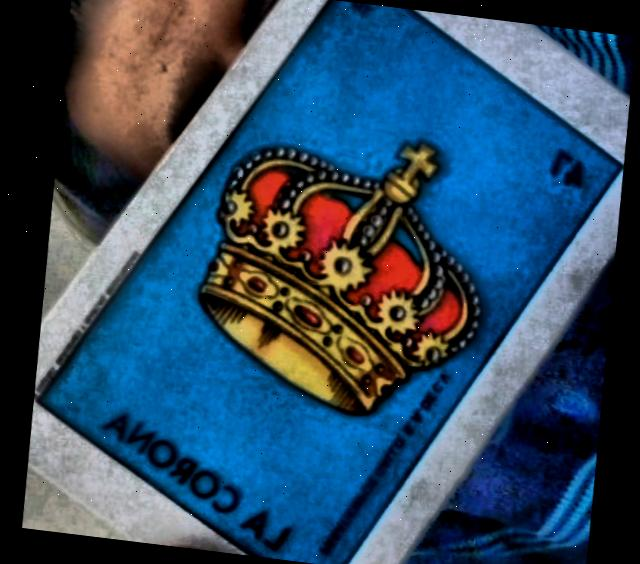La Corona: (34, 0, 618, 564)
